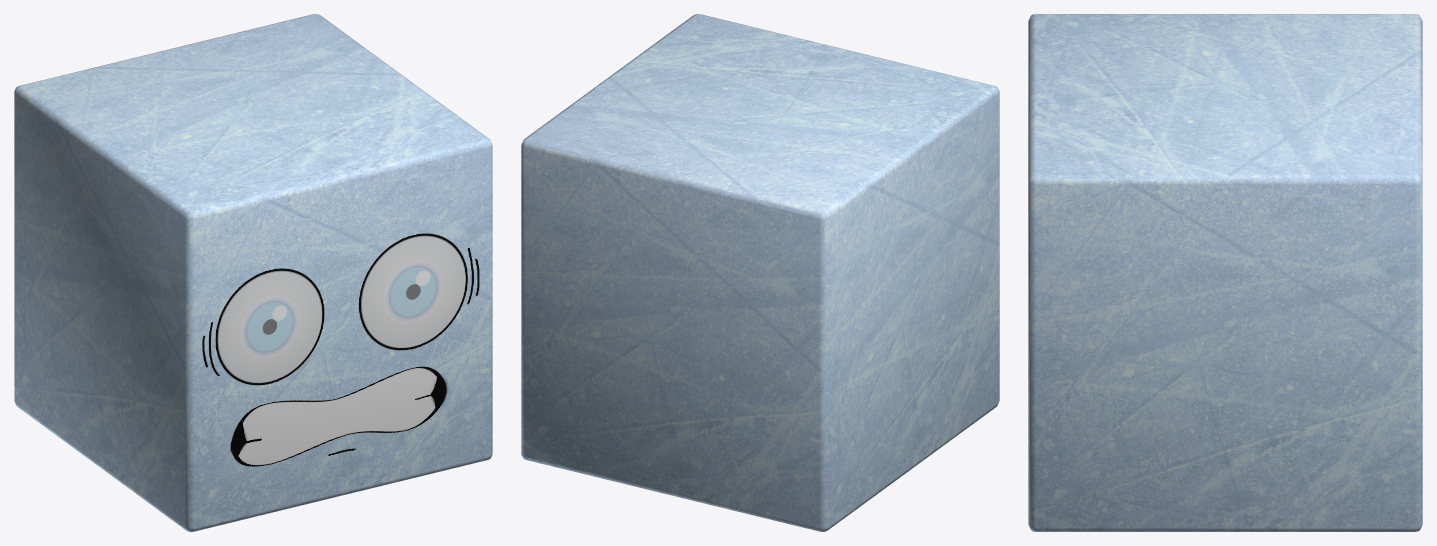
File: Ice.FBX
3 views of the same model, side by side, from view 1: azimuth 30°, elevation 25°; view 2: azimuth 150°, elevation 25°; view 3: azimuth 270°, elevation 25° (orthographic). The views are drawn at different scales.
Visible parts, largest first — view 1: Rock; view 2: Rock; view 3: Rock.
Part boxes in pixels (x1,y1,x2,y2): Rock: [14, 14, 492, 531]; Rock: [521, 14, 999, 531]; Rock: [1028, 14, 1422, 531].
Bounding box in the file's own units: 100 × 100 × 100.
Materials: 2 (2 with a texture image).
